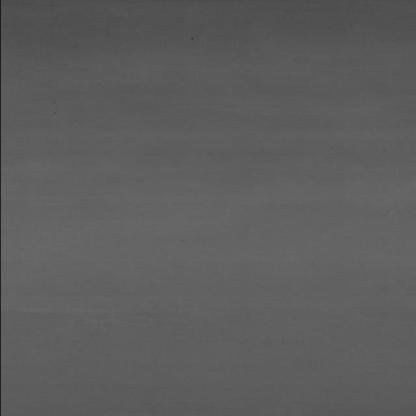inclusion: (184, 31, 214, 45)
